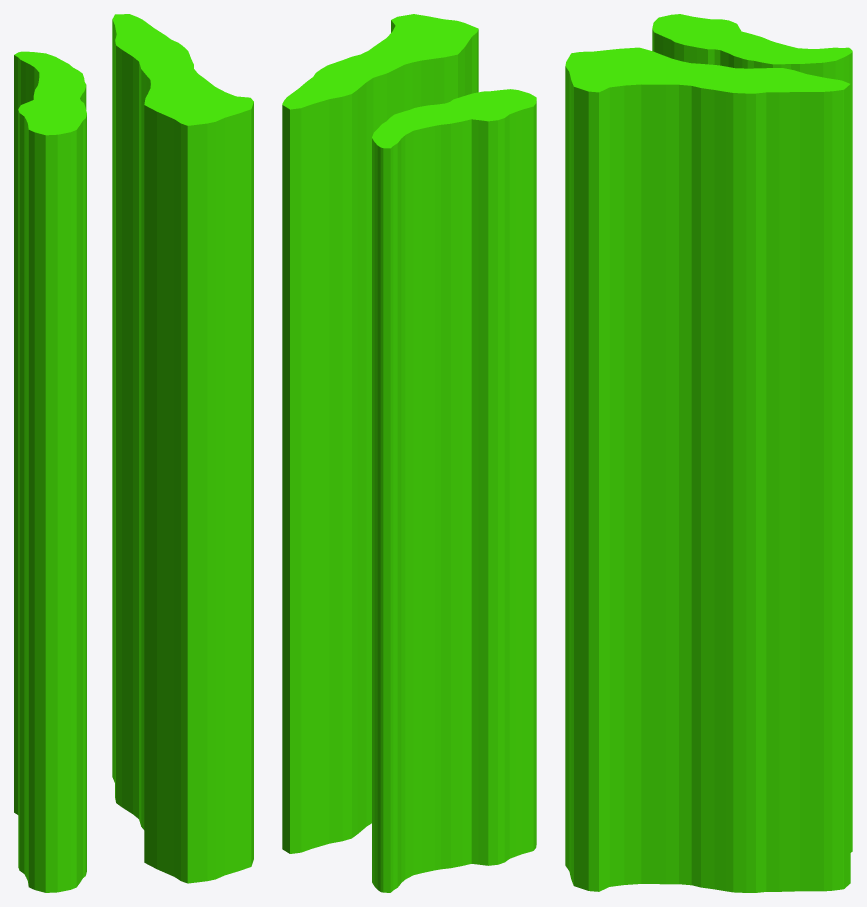
File: wood_area0102.dae
The picture shows the model from 3 angles, left to right: view 1: azimuth 30°, elevation 25°; view 2: azimuth 150°, elevation 25°; view 3: azimuth 270°, elevation 25°; orthographic projection. The views are drawn at different scales.
Visible parts, largest first — view 1: Object_008, Object_009; view 2: Object_009, Object_008; view 3: Object_008, Object_009.
Part boxes in pixels (left/top/right/bottom): Object_008: left=112, top=14, right=253, bottom=883; Object_009: left=14, top=51, right=86, bottom=892; Object_009: left=372, top=89, right=536, bottom=892; Object_008: left=282, top=14, right=478, bottom=853; Object_008: left=565, top=47, right=850, bottom=892; Object_009: left=652, top=14, right=852, bottom=852.
Size of the model in its own units: 94.86 by 120 by 377.
